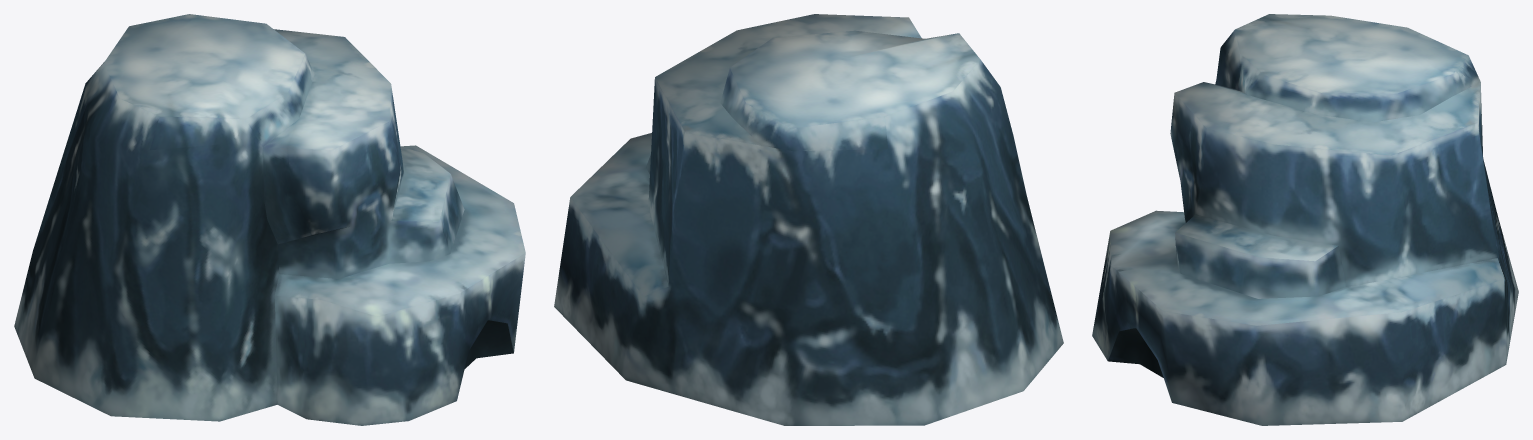
File: Stage_BingYuan_ShanShi07.FBX
3 renders of one model, left to right at view 1: azimuth 30°, elevation 25°; view 2: azimuth 150°, elevation 25°; view 3: azimuth 270°, elevation 25°, orthographic. The views are drawn at different scales.
Visible parts, largest first — view 1: Stage_BingYuan_ShanShi07; view 2: Stage_BingYuan_ShanShi07; view 3: Stage_BingYuan_ShanShi07.
Part boxes in pixels (bbox=[...]): Stage_BingYuan_ShanShi07: bbox=[14, 14, 525, 425]; Stage_BingYuan_ShanShi07: bbox=[554, 14, 1063, 425]; Stage_BingYuan_ShanShi07: bbox=[1092, 14, 1518, 425].
Bounding box in the file's own units: 1041 × 626 × 951.
